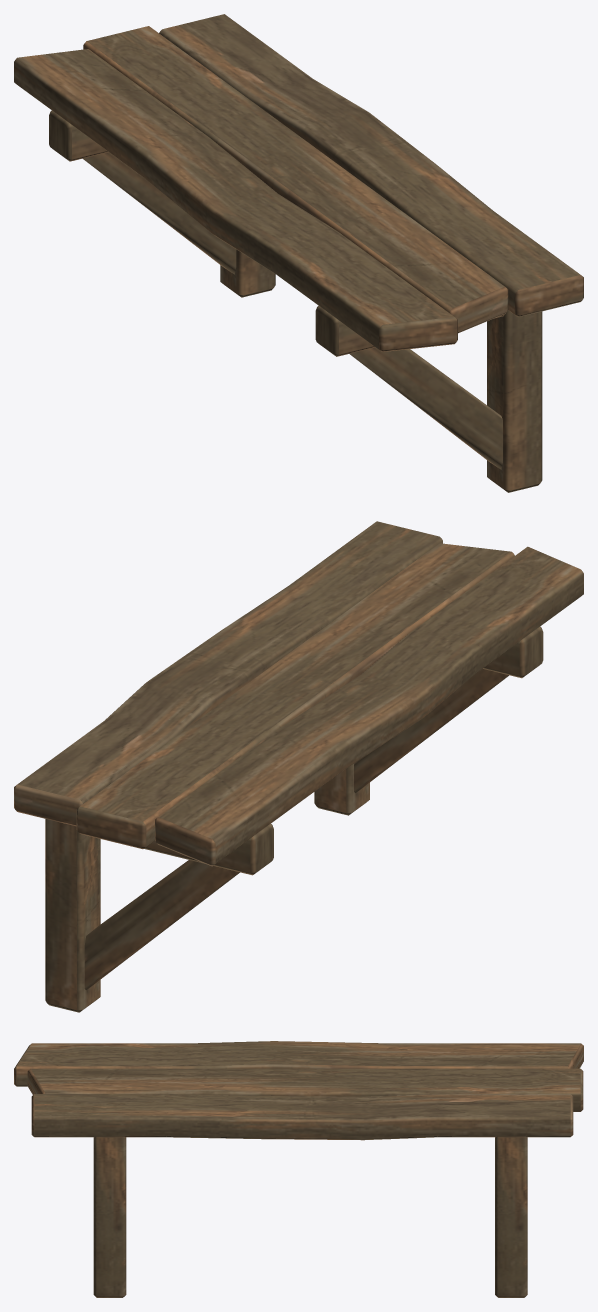
File: SM_shelf_02.fbx
3 views of the same model, one above another, from view 1: azimuth 30°, elevation 25°; view 2: azimuth 150°, elevation 25°; view 3: azimuth 270°, elevation 25° (orthographic). The views are drawn at different scales.
Visible parts, largest first — view 1: SM_shelf_02_LOD0; view 2: SM_shelf_02_LOD0; view 3: SM_shelf_02_LOD0.
Part boxes in pixels (x1,y1,x2,y2): SM_shelf_02_LOD0: [14, 14, 583, 492]; SM_shelf_02_LOD0: [14, 521, 583, 1012]; SM_shelf_02_LOD0: [14, 1041, 583, 1297].
Size of the model in its own units: 61.45 by 183 by 64.16.
Materials: 1 (1 with a texture image).
